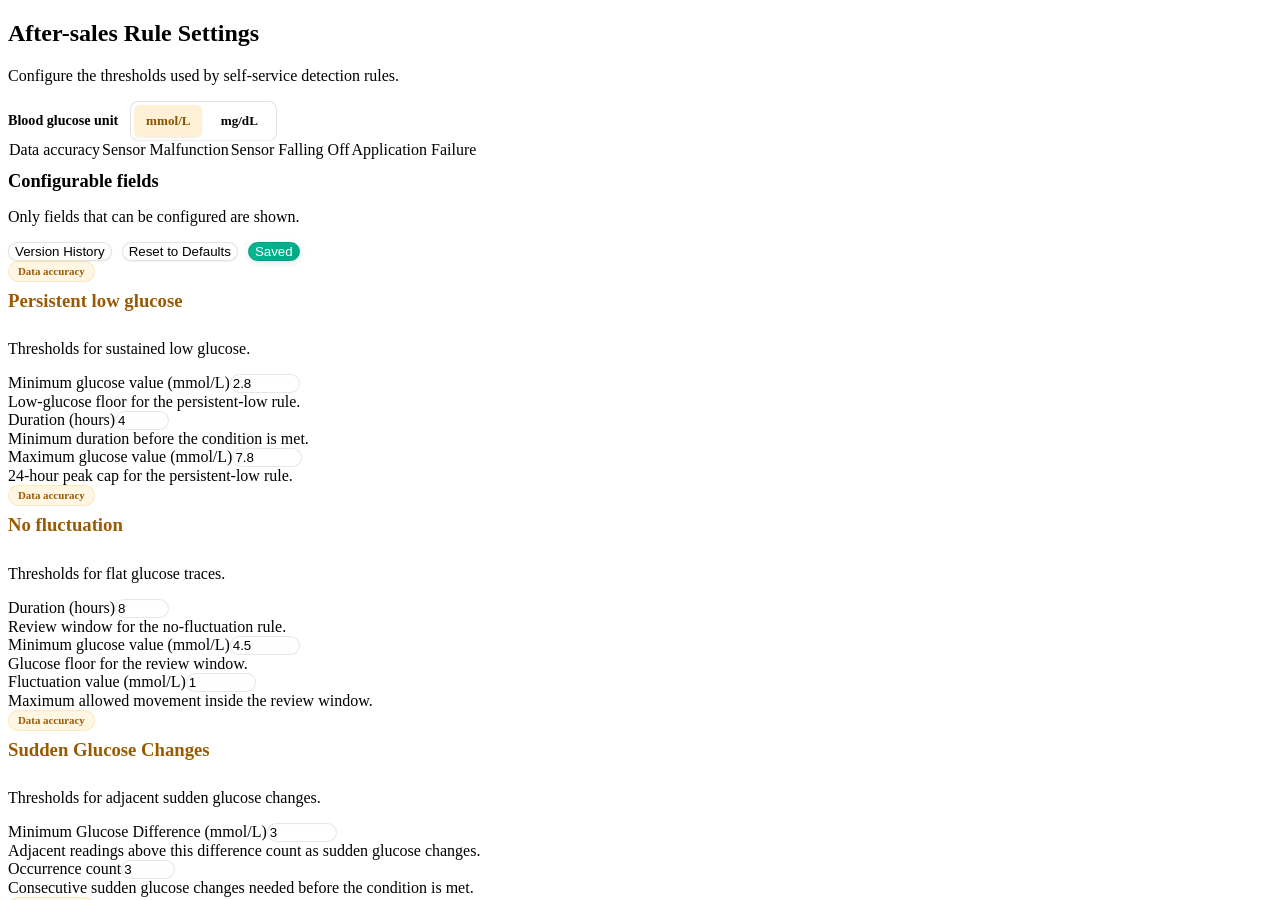
Test: ThresholdsView › opens a reset confirmation modal before resetting values
Replace the text in the number field with id "threshold-lowMinHours" with "5" at [142, 421], box 115,411 -> 169,430
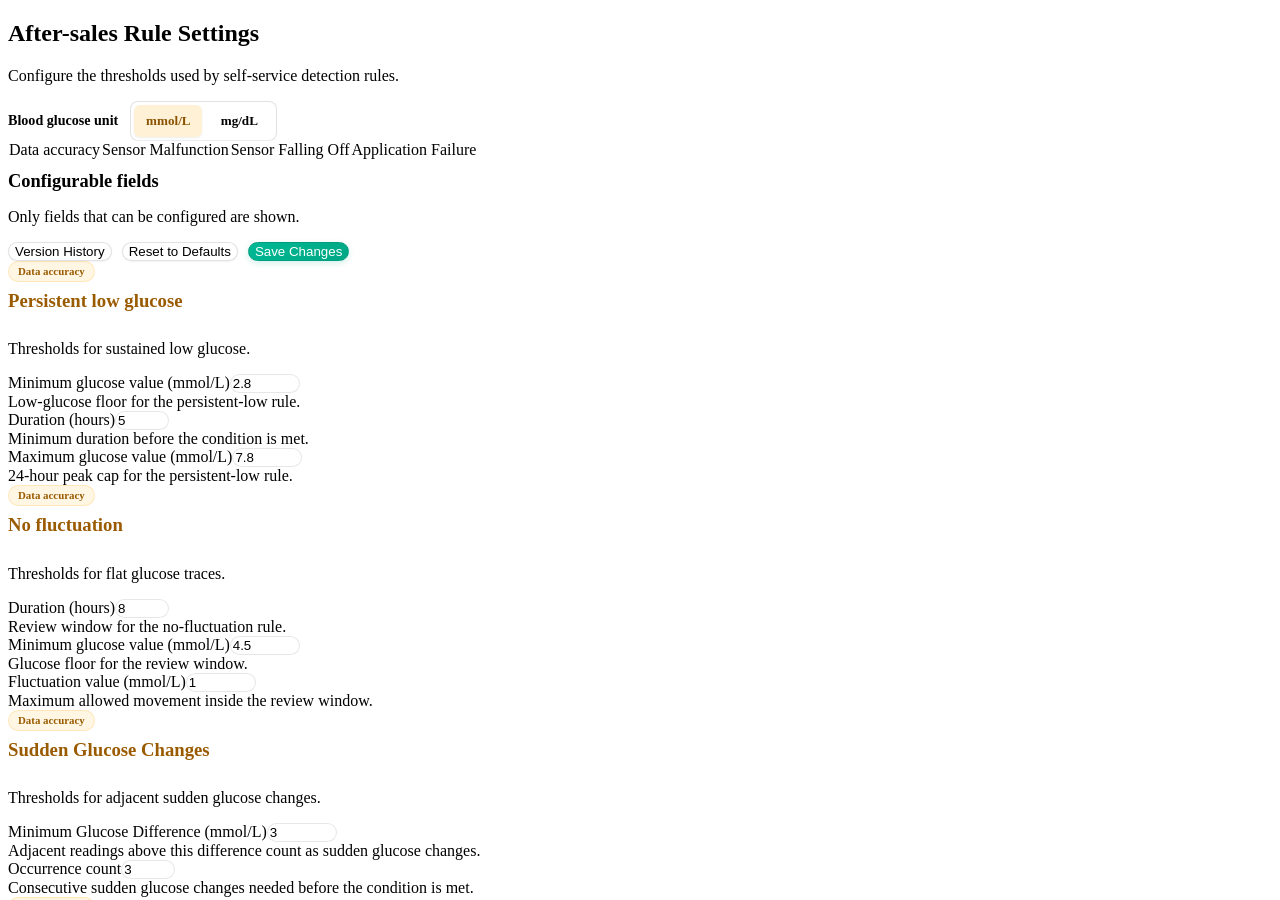
Click the button with class "btn-reset" at [180, 252], box 122,242 -> 238,261
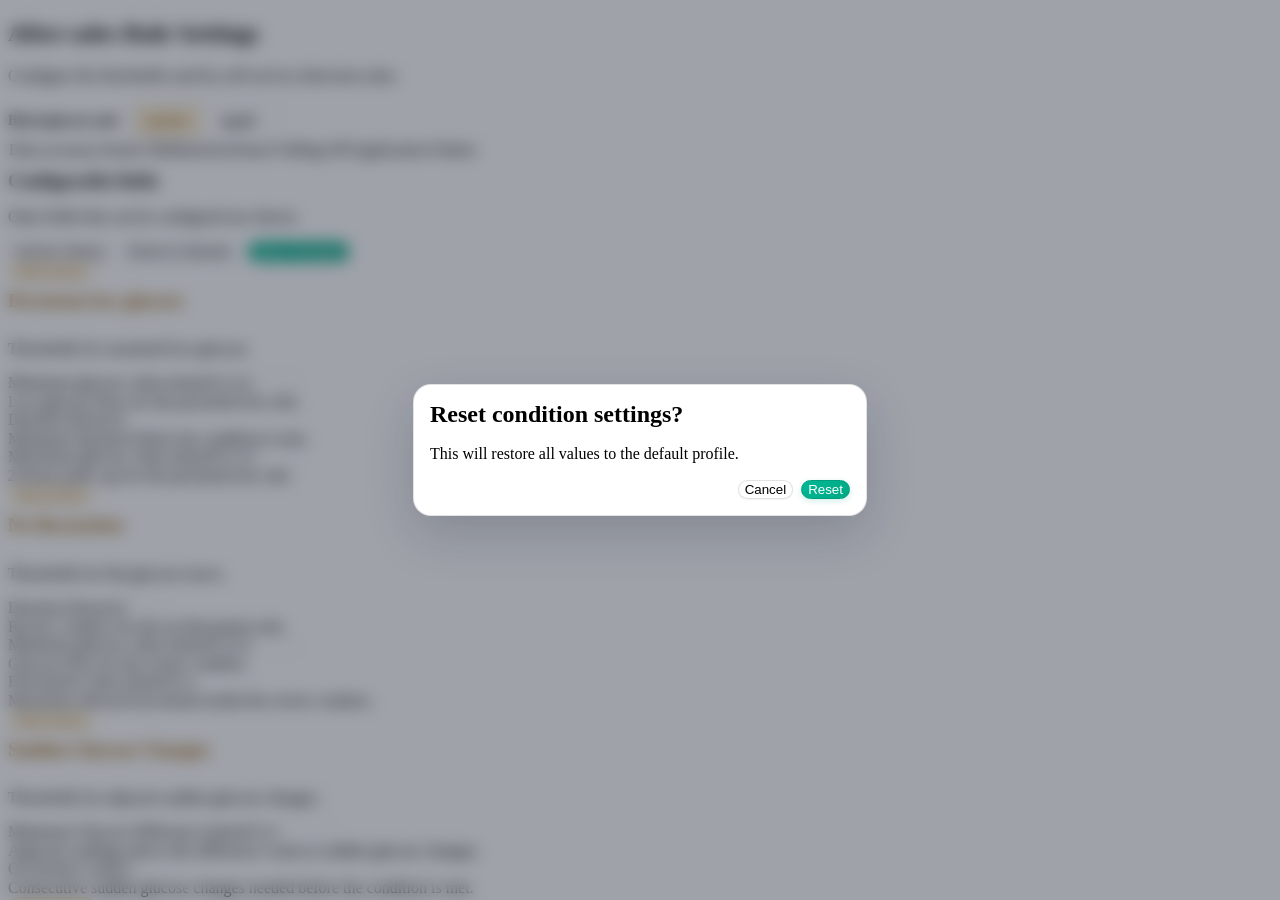
Now the element with class "modal-overlay" is shown
Now the dialog shows "Reset condition settings?", box 430,401 -> 683,427
